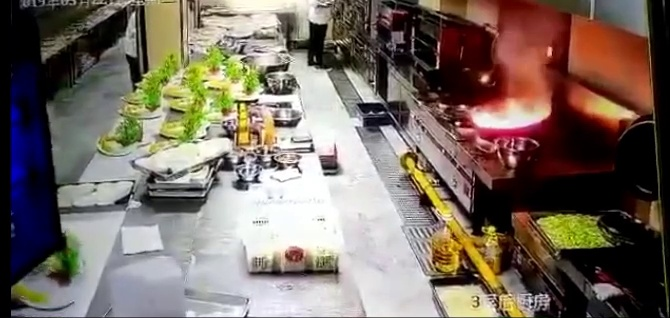fire: (474, 60, 553, 132)
